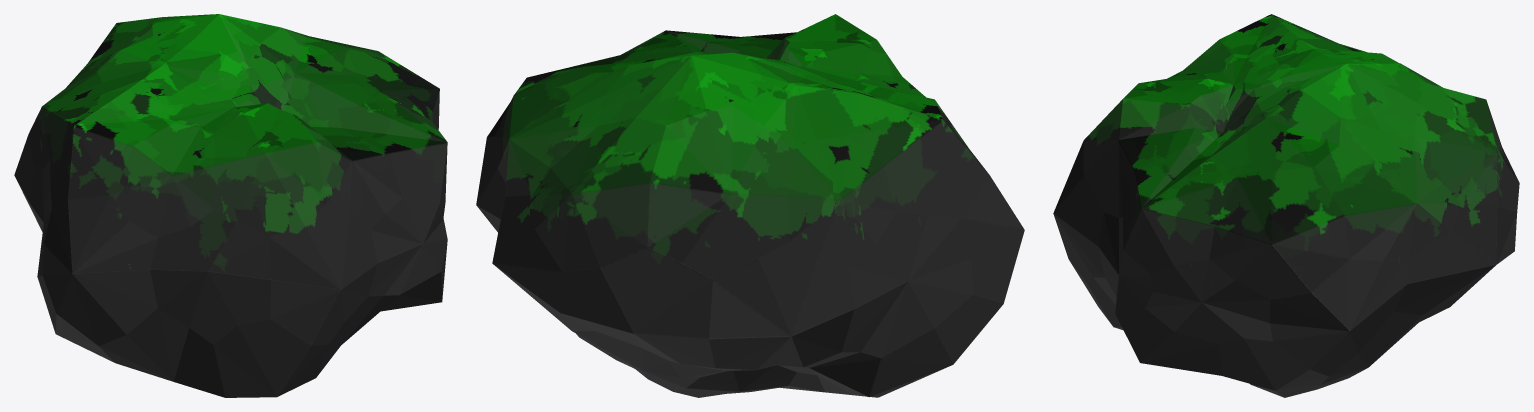
Rendered from GrassyRock2.glb.
The picture shows the model from 3 angles, left to right: view 1: azimuth 30°, elevation 25°; view 2: azimuth 150°, elevation 25°; view 3: azimuth 270°, elevation 25°; orthographic projection. The views are drawn at different scales.
Parts seen in each view (by area): view 1: GrassyRock2; view 2: GrassyRock2; view 3: GrassyRock2.
Part boxes in pixels (left/top/right/bottom): GrassyRock2: left=14, top=14, right=447, bottom=397; GrassyRock2: left=476, top=14, right=1024, bottom=397; GrassyRock2: left=1053, top=14, right=1519, bottom=397.
Size of the model in its own units: 3.93 by 2.85 by 3.81.
1 material, 1 textured.
